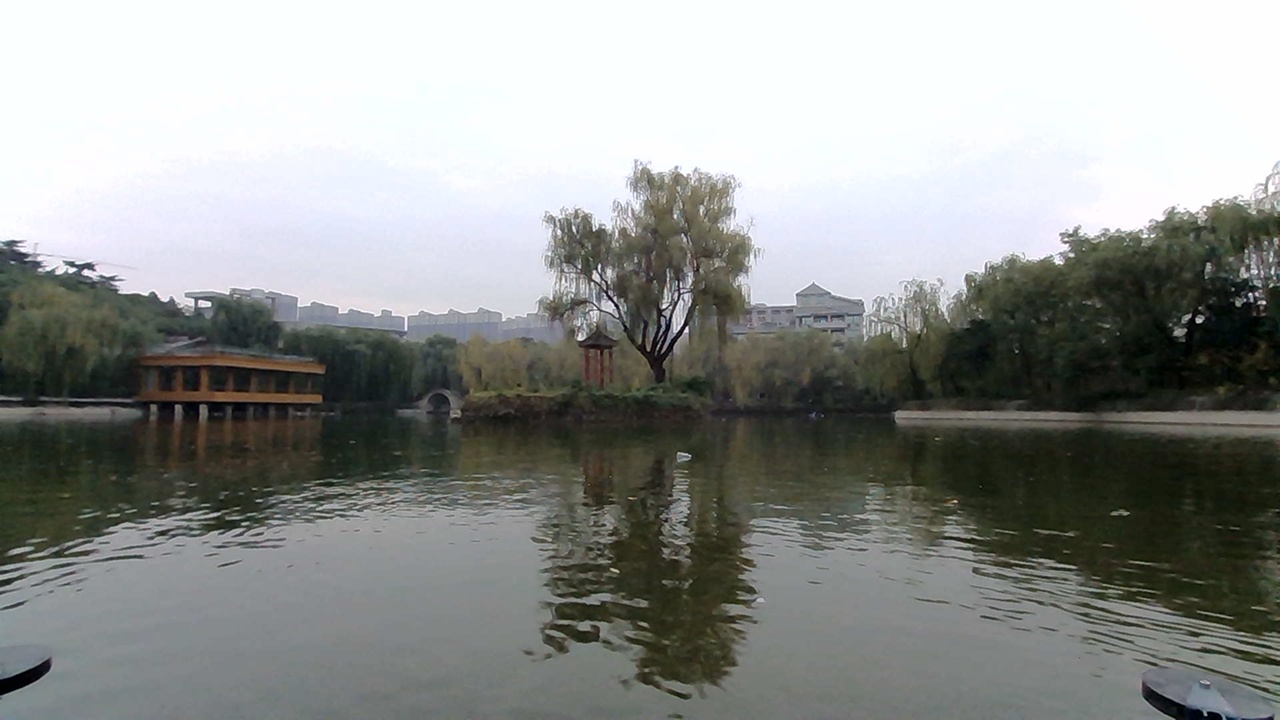bottle: (666, 435, 721, 467)
